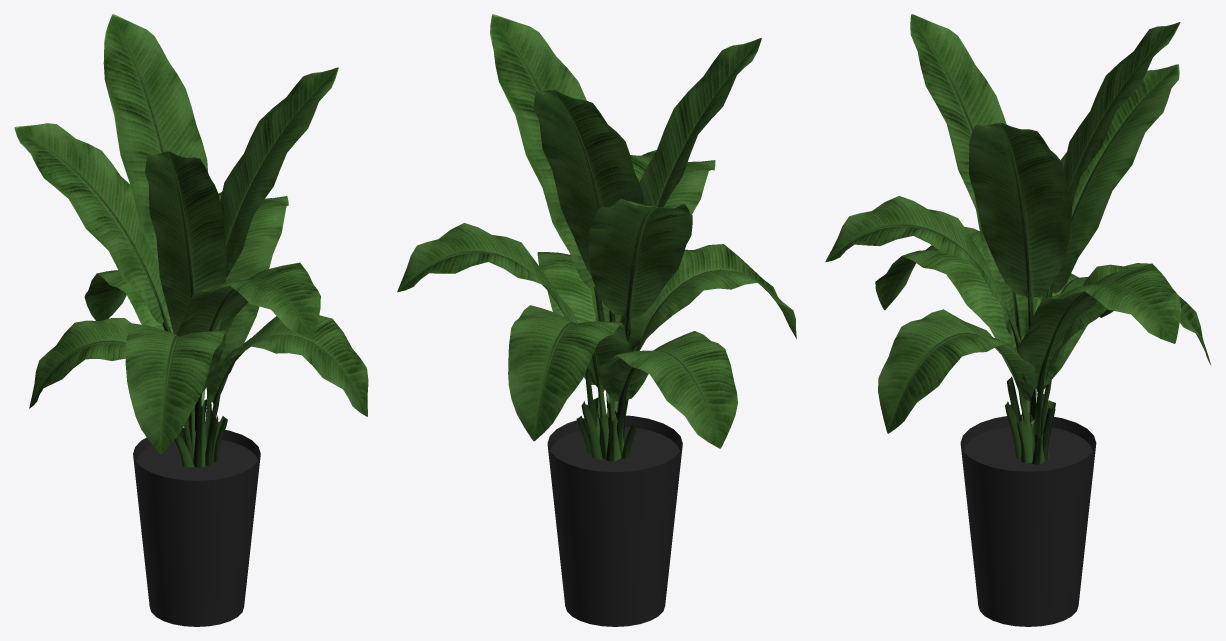
File: plant.dae
The picture shows the model from 3 angles, left to right: view 1: azimuth 30°, elevation 25°; view 2: azimuth 150°, elevation 25°; view 3: azimuth 270°, elevation 25°; orthographic projection. The views are drawn at different scales.
Parts seen in each view (by area): view 1: Line006 (×3), Line005 (×4), group_0, Line001 (×2), Line009, group_1, Line005_2; view 2: Line006 (×3), Line005 (×4), group_0, Line001 (×2), Line009, group_1; view 3: Line006 (×3), group_0, Line005 (×4), Line001 (×2), Line009, group_1.
Boxes of the visible parts, x1,y1,x2,y2 form: Line006 (×3): (14,14,338,406); Line005 (×4): (29,270,368,460); group_0: (133,427,260,626); Line001 (×2): (177,192,320,446); Line009: (145,151,226,461); group_1: (136,438,257,480); Line005_2: (193,402,206,467); Line006 (×3): (490,14,692,423); Line005 (×4): (508,244,796,456); group_0: (547,415,682,626); Line001 (×2): (397,150,715,446); Line009: (622,38,761,340); group_1: (550,426,679,472); Line006 (×3): (969,22,1180,427); group_0: (960,414,1096,626); Line005 (×4): (875,226,1211,444); Line001 (×2): (825,196,1180,456); Line009: (910,14,1038,420); group_1: (963,426,1092,471).
Bounding box in the file's own units: 30.04 × 34.27 × 56.51.
3 materials, 2 textured.
